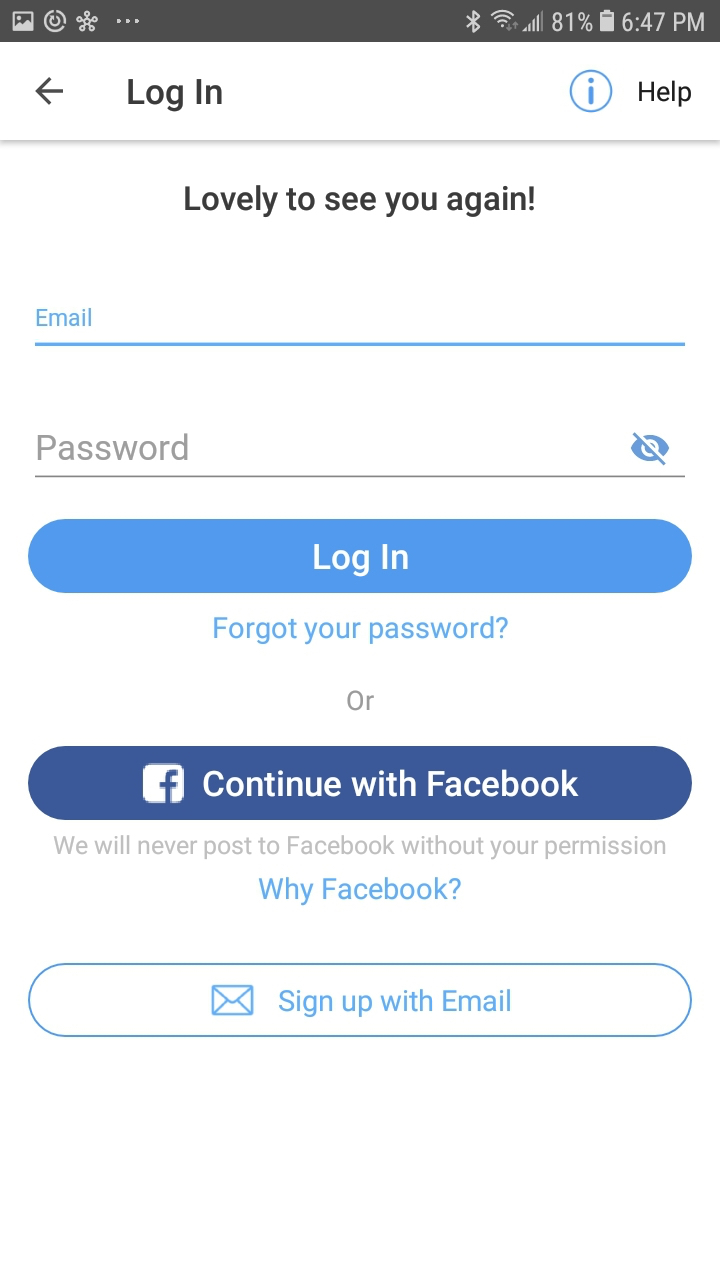EditText: (36, 432, 686, 479), (35, 308, 685, 348)
Icon: (569, 70, 613, 113), (631, 433, 669, 466), (36, 77, 65, 106)
Text: (55, 835, 666, 860), (185, 185, 534, 218), (214, 616, 509, 646), (258, 876, 461, 906), (39, 433, 189, 463), (128, 79, 224, 113), (638, 81, 692, 109), (37, 308, 93, 328), (348, 691, 375, 711)
TextButton: (28, 519, 693, 595), (29, 962, 693, 1038), (29, 746, 693, 821)
UpperTaskBar: (1, 1, 720, 43)
